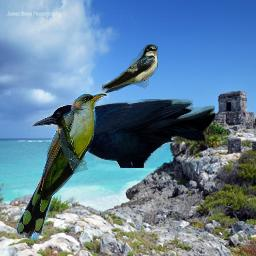Crow: (31, 99, 215, 168)
Cuckoo: (17, 93, 107, 240)
Swallow: (102, 44, 158, 94)
